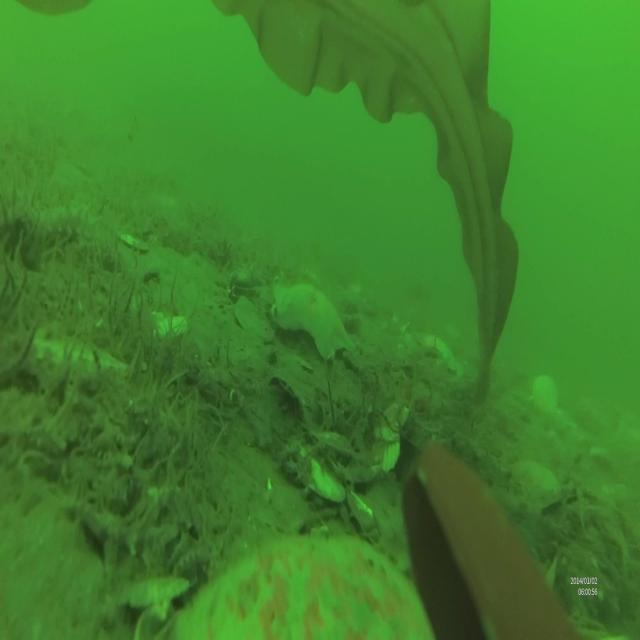scallop: (531, 371, 560, 414)
starfish: (171, 531, 442, 640), (274, 277, 356, 363), (416, 322, 462, 378)
